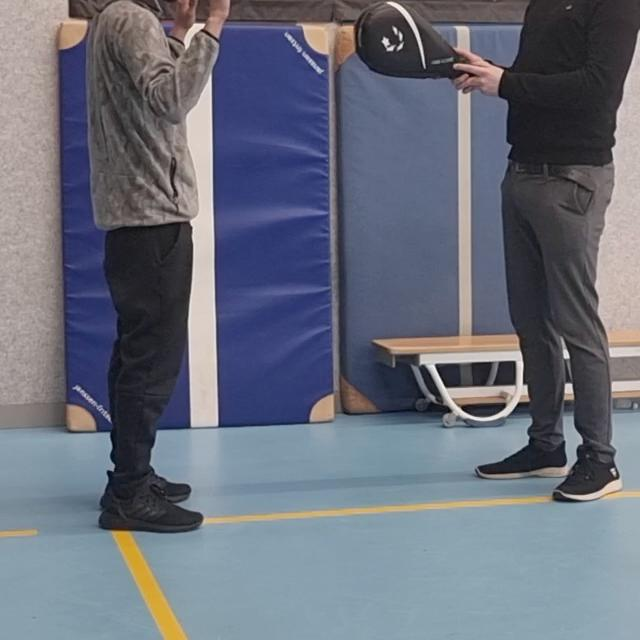paddle: (356, 1, 469, 81)
